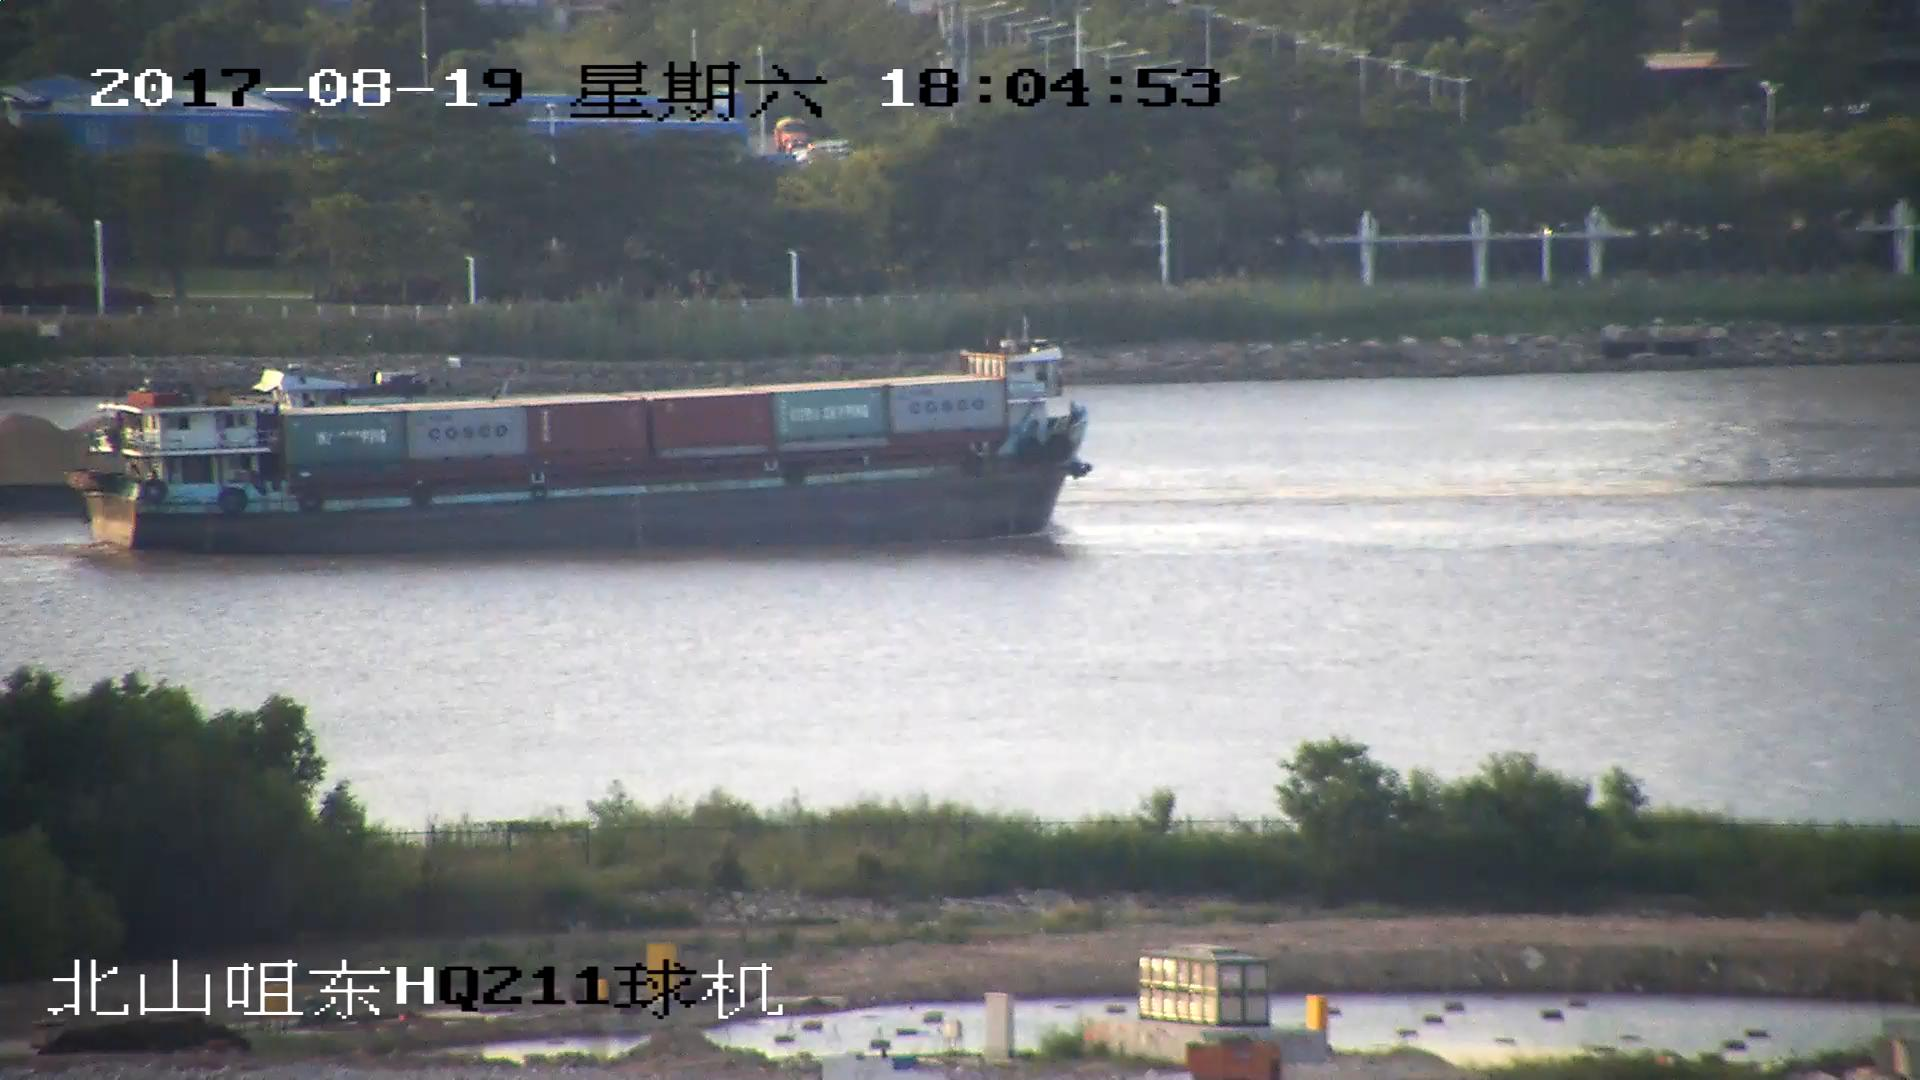container ship: (78, 337, 1086, 551)
